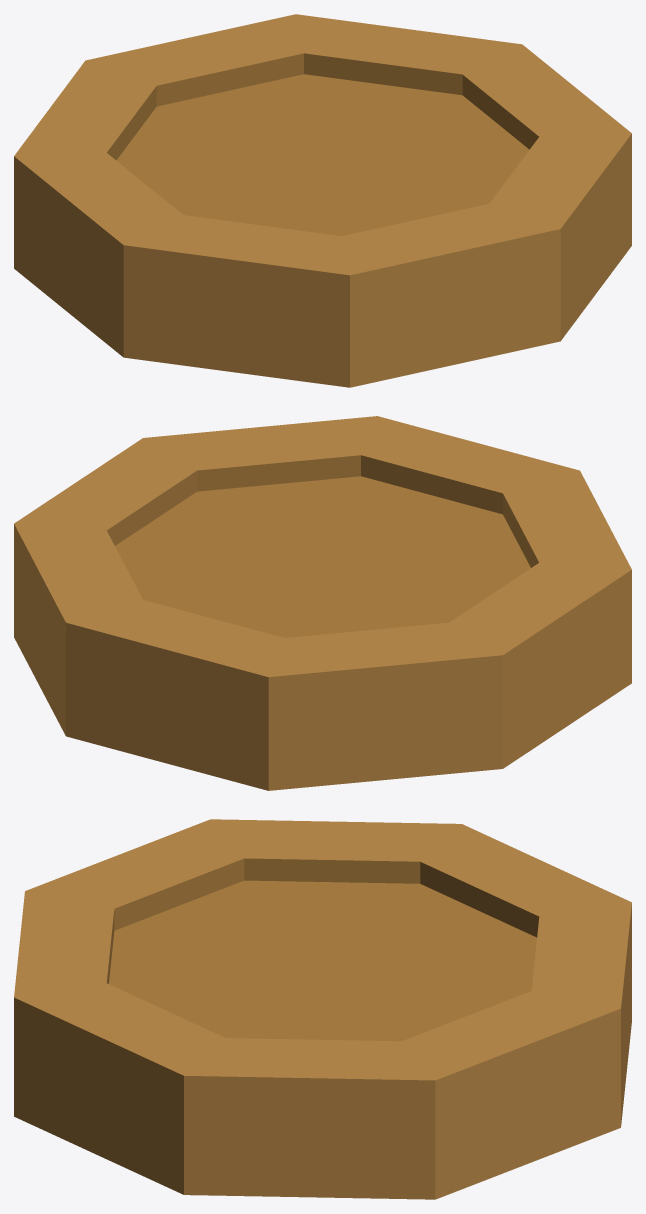
Rendered from Gold.fbx.
The picture shows the model from 3 angles, top to bottom: view 1: azimuth 30°, elevation 25°; view 2: azimuth 150°, elevation 25°; view 3: azimuth 270°, elevation 25°; orthographic projection. The views are drawn at different scales.
Visible parts, largest first — view 1: Cylinder; view 2: Cylinder; view 3: Cylinder.
Boxes of the visible parts, box(x1,y1,x2,y2) form: Cylinder: box(14, 14, 631, 387); Cylinder: box(14, 416, 631, 790); Cylinder: box(14, 819, 631, 1199).
Bounding box in the file's own units: 0.5074 × 0.5074 × 0.108.
